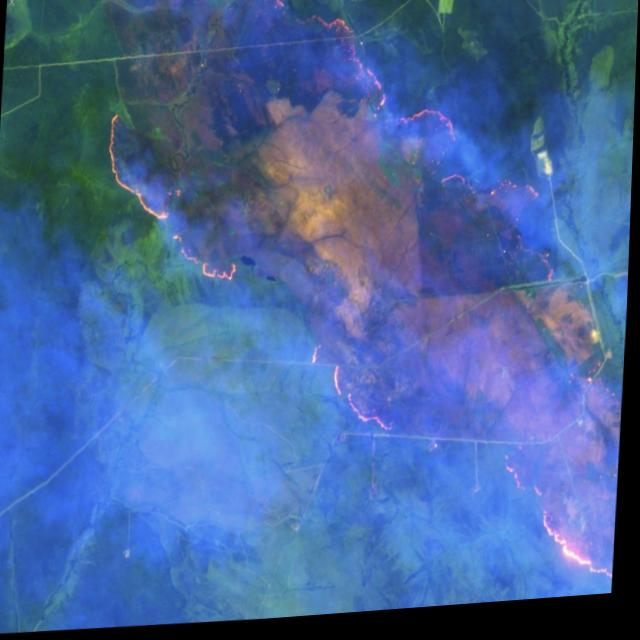fire: (75, 0, 640, 635)
